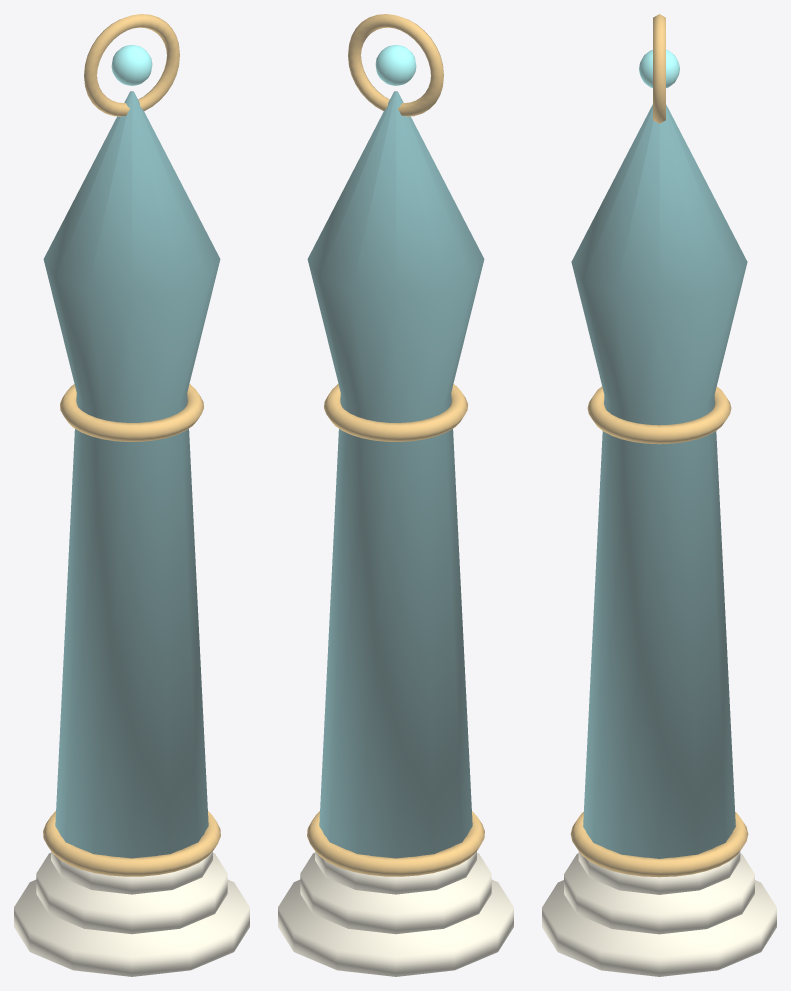
The model's file is sky_spire.glb.
The picture shows the model from 3 angles, left to right: view 1: azimuth 30°, elevation 25°; view 2: azimuth 150°, elevation 25°; view 3: azimuth 270°, elevation 25°; orthographic projection.
Parts seen in each view (by area): view 1: sky_spire_surface; view 2: sky_spire_surface; view 3: sky_spire_surface.
Part boxes in pixels (x1=…): sky_spire_surface: x1=14, y1=14, x2=249, y2=976; sky_spire_surface: x1=278, y1=14, x2=513, y2=976; sky_spire_surface: x1=542, y1=14, x2=776, y2=976.
Size of the model in its own units: 3.2 by 13.65 by 3.2.
